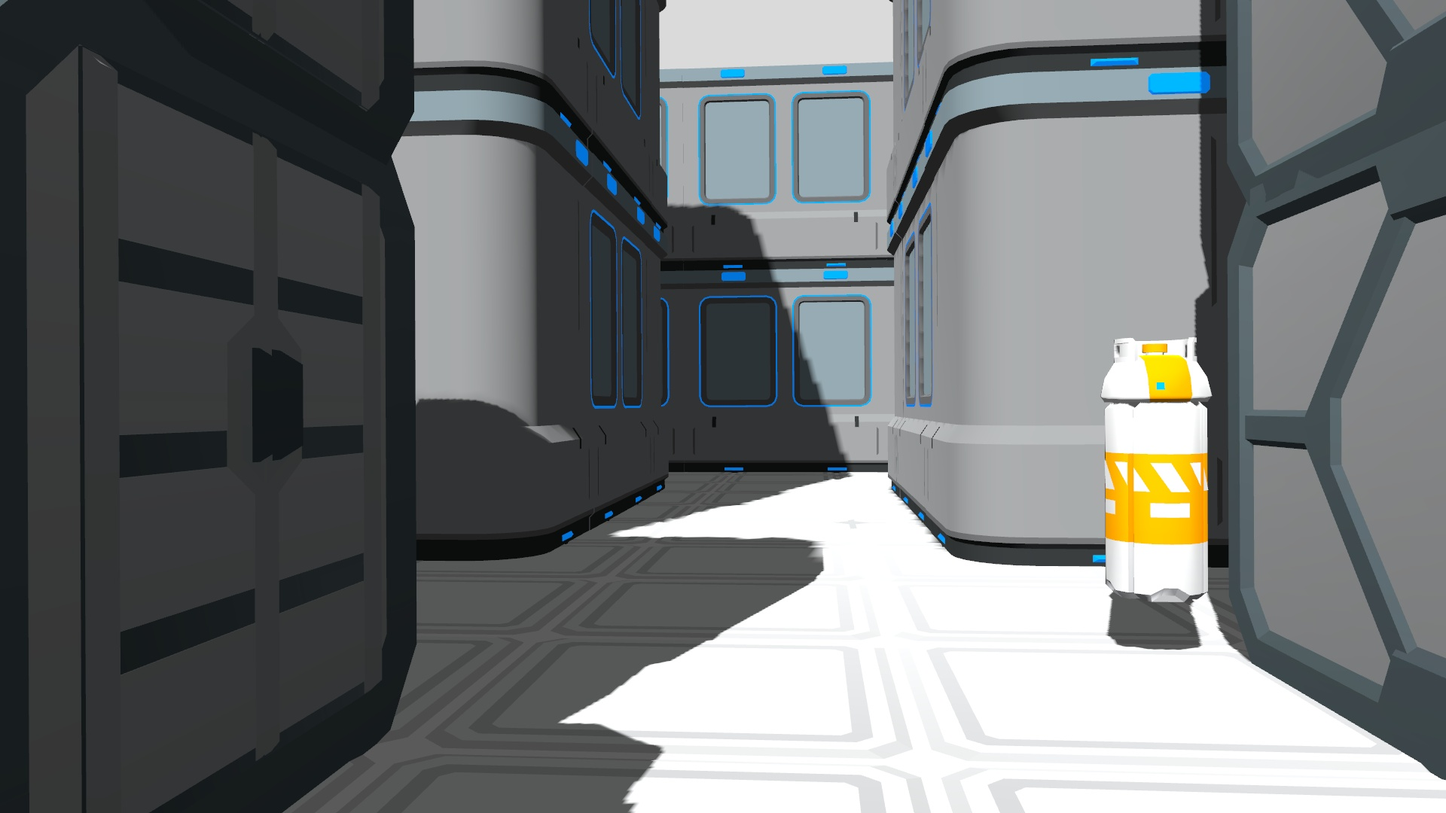yellow_barrel: (1098, 329, 1216, 604)
